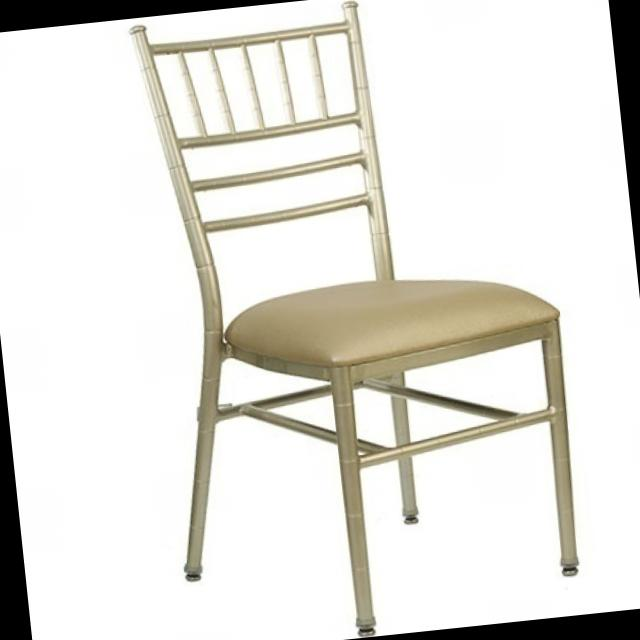Chair: (123, 0, 595, 640)
